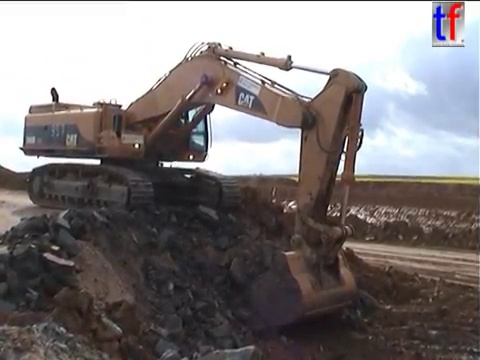excavator: (16, 38, 371, 330)
